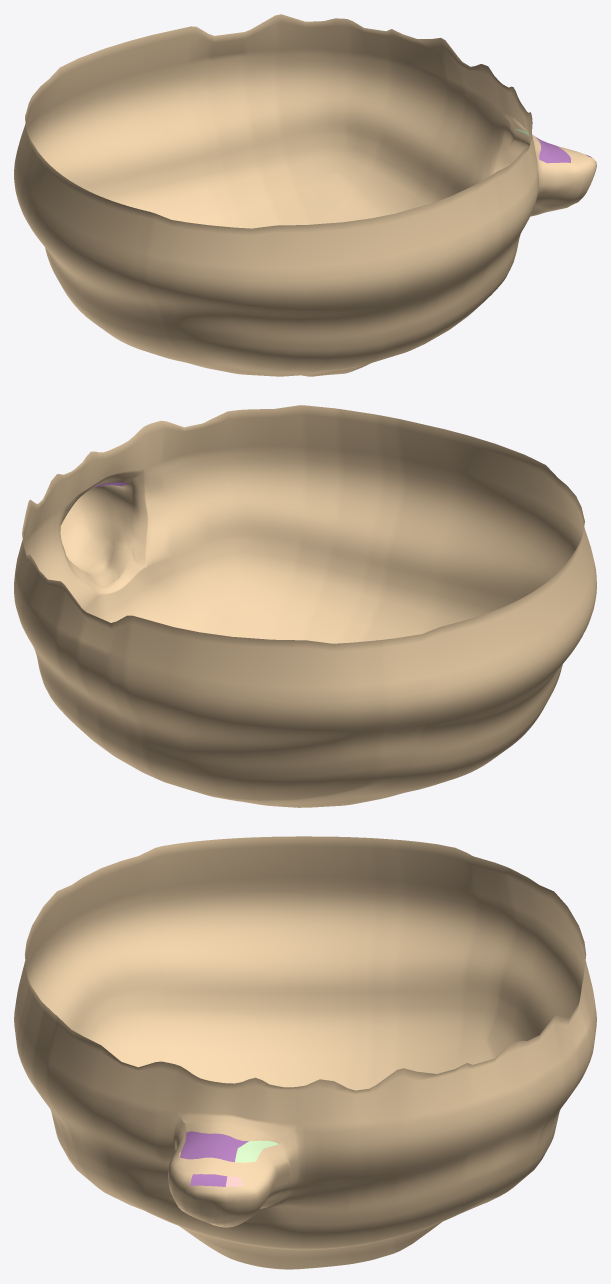
The model's file is IslandUnten.fbx.
3 views of the same model, one above another, from view 1: azimuth 30°, elevation 25°; view 2: azimuth 150°, elevation 25°; view 3: azimuth 270°, elevation 25° (orthographic). The views are drawn at different scales.
Parts seen in each view (by area): view 1: island6; view 2: island6; view 3: island6.
Boxes of the visible parts, left/top/right/bottom form: island6: left=14, top=14, right=596, bottom=376; island6: left=14, top=405, right=596, bottom=807; island6: left=14, top=836, right=596, bottom=1269.
Bounding box in the file's own units: 364 × 174 × 322.
